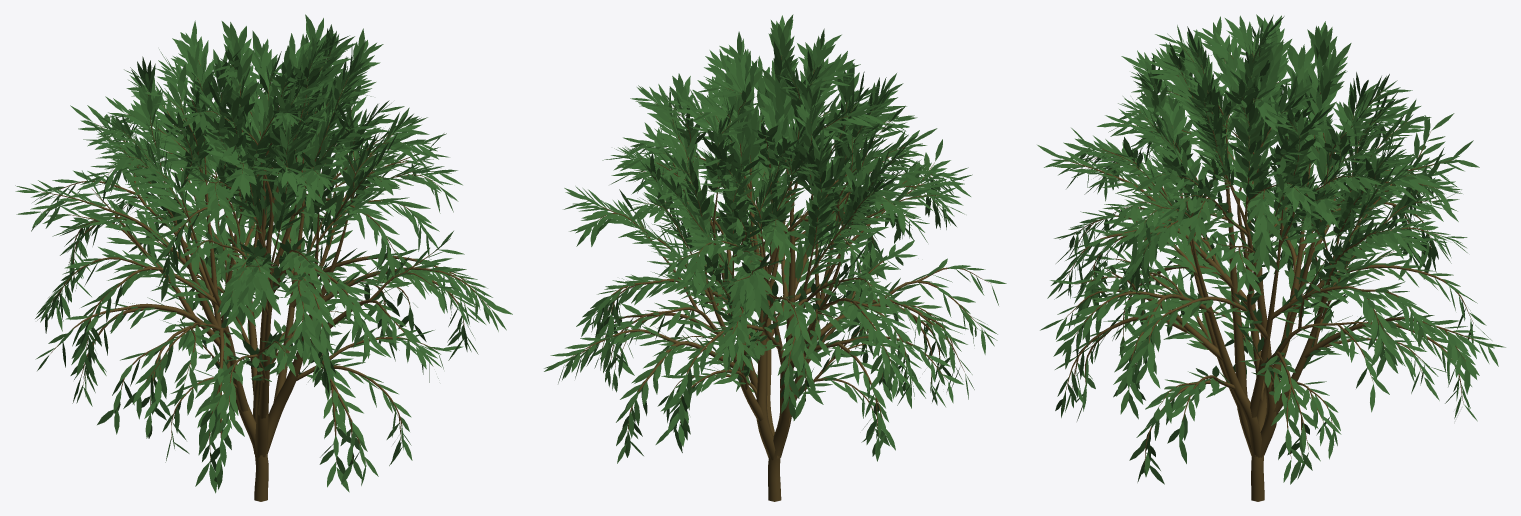
The model's file is tree.glb.
3 renders of one model, left to right at view 1: azimuth 30°, elevation 25°; view 2: azimuth 150°, elevation 25°; view 3: azimuth 270°, elevation 25°, orthographic. The views are drawn at different scales.
Parts seen in each view (by area): view 1: leaves_0, tree_1; view 2: leaves_0, tree_1; view 3: leaves_0, tree_1.
Part boxes in pixels (bbox=[...]): leaves_0: bbox=[15, 14, 512, 493]; tree_1: bbox=[40, 52, 490, 501]; leaves_0: bbox=[544, 14, 1006, 463]; tree_1: bbox=[565, 55, 990, 501]; leaves_0: bbox=[1037, 14, 1505, 484]; tree_1: bbox=[1063, 39, 1474, 501].
Bounding box in the file's own units: 5.78 × 6.82 × 6.05.
